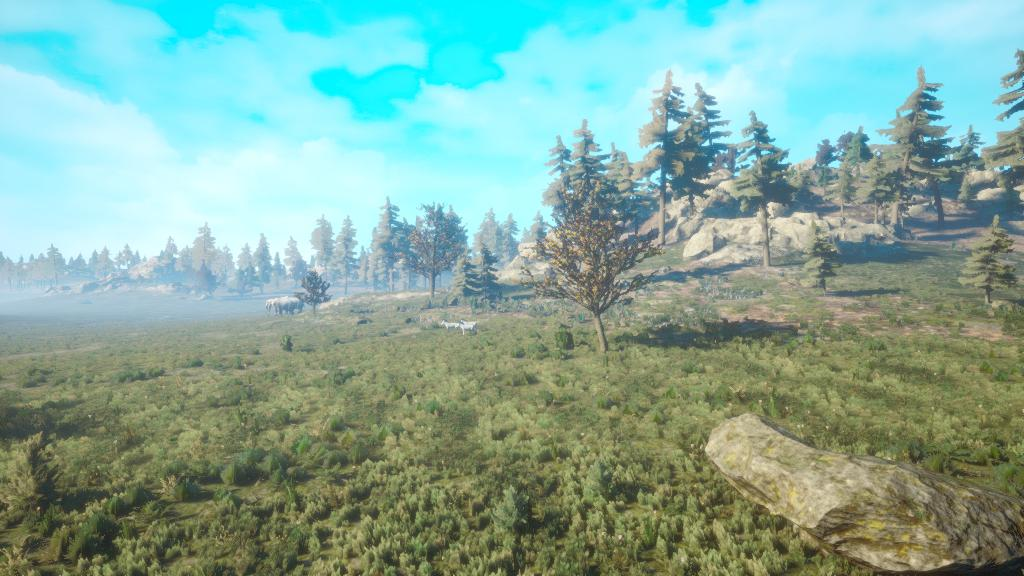elephant: (260, 295, 304, 320)
zebra: (433, 315, 483, 342)
